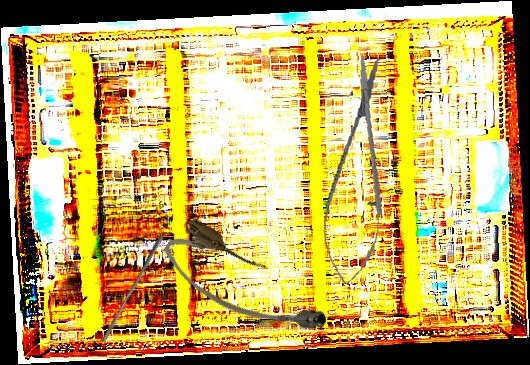Cannula: (154, 212, 336, 360)
Micro Scissor: (317, 52, 399, 288)
Pusher: (100, 232, 164, 345)
